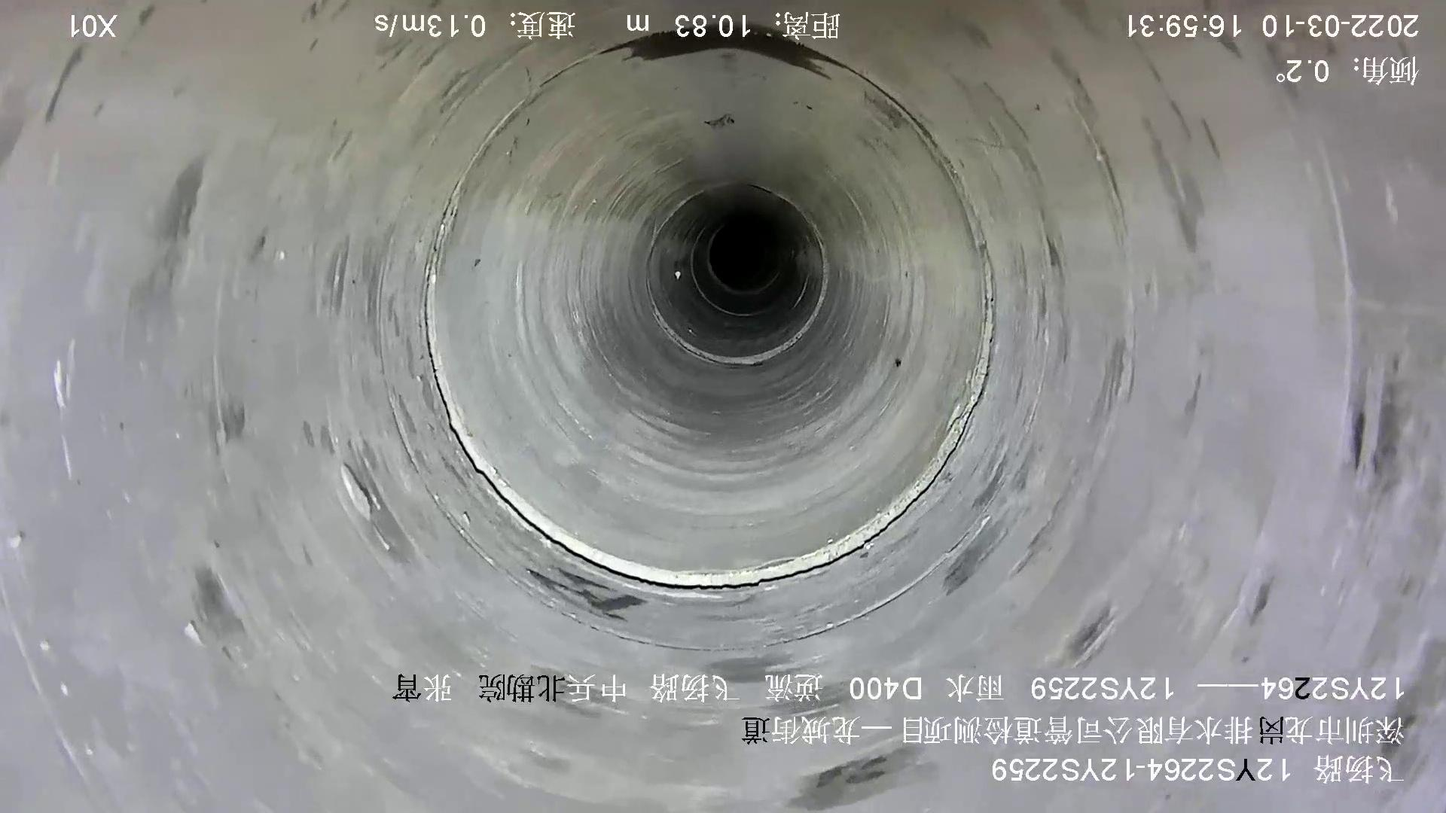CKTJ: (422, 78, 996, 598), (645, 247, 832, 368)
